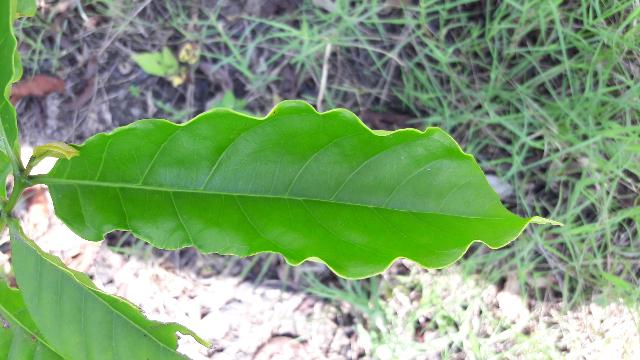healthy: (51, 103, 530, 276)
